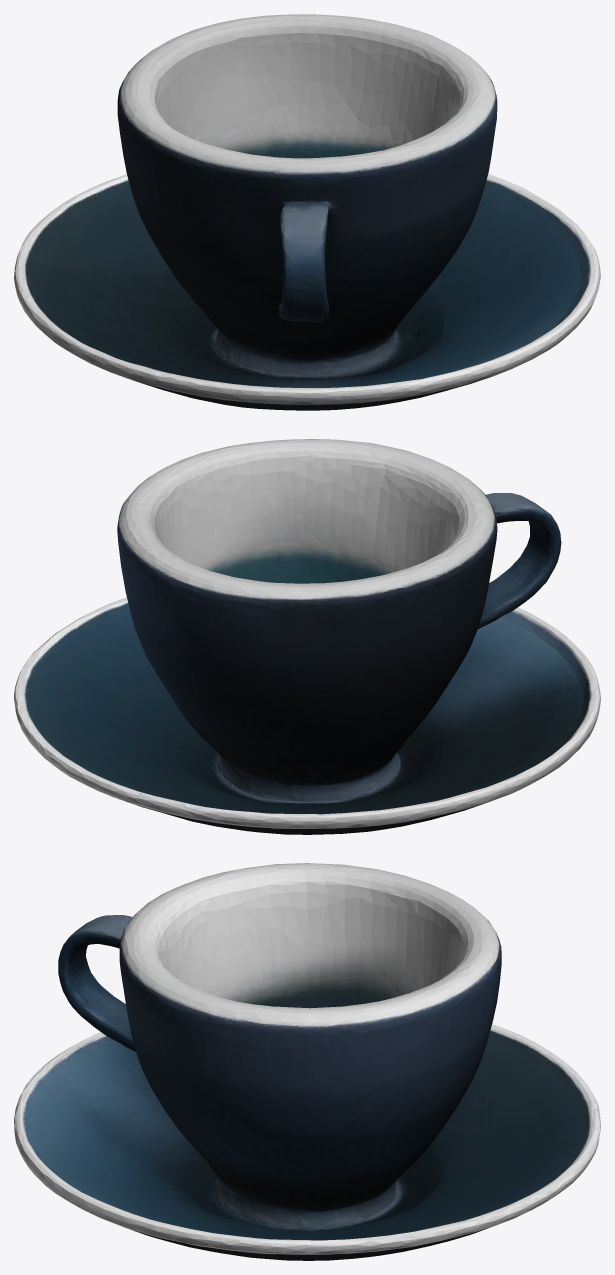
3 views of the same model, one above another, from view 1: azimuth 30°, elevation 25°; view 2: azimuth 150°, elevation 25°; view 3: azimuth 270°, elevation 25° (orthographic).
Parts seen in each view (by area): view 1: world; view 2: world; view 3: world.
Boxes of the visible parts, box(x1,y1,x2,y2) form: world: box(14, 14, 600, 410); world: box(14, 439, 600, 834); world: box(14, 863, 600, 1260).
Bounding box in the file's own units: 0.7176 × 0.3502 × 0.7183.
1 material, 1 textured.
